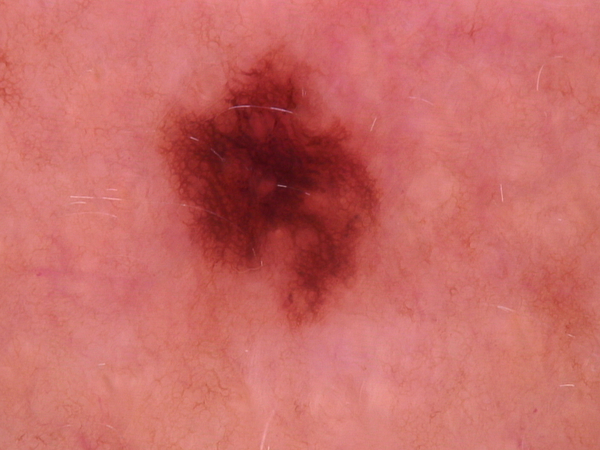Detected Lesion: (156, 42, 380, 339)
